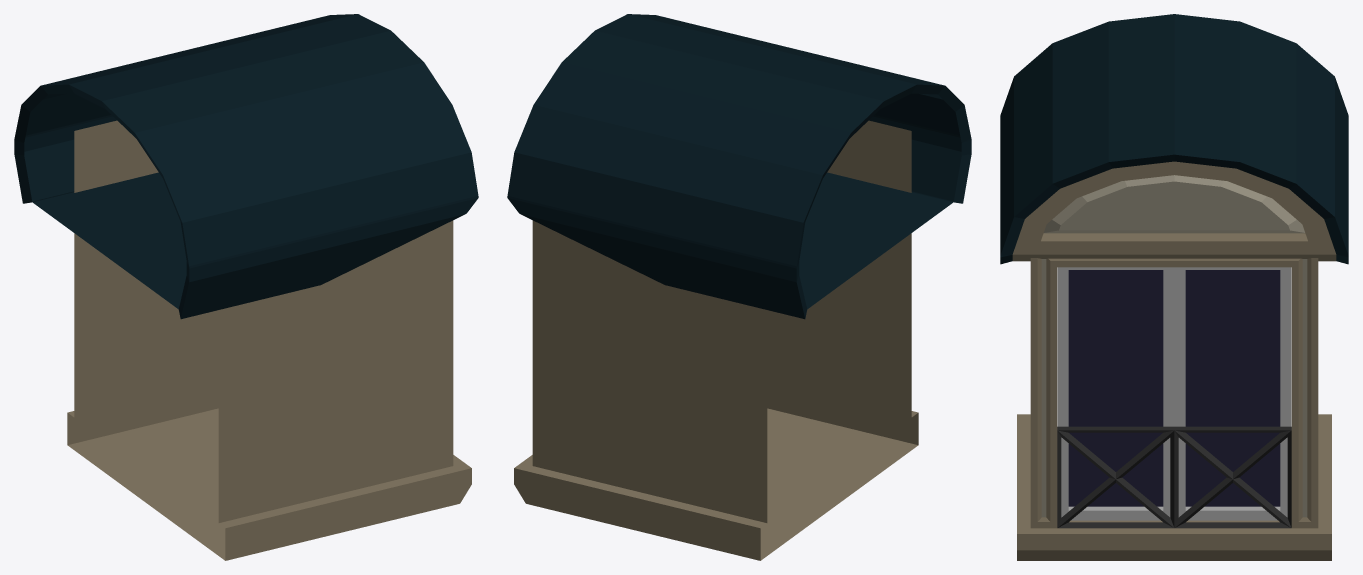
The model's file is Window_3.fbx.
3 views of the same model, side by side, from view 1: azimuth 30°, elevation 25°; view 2: azimuth 150°, elevation 25°; view 3: azimuth 270°, elevation 25° (orthographic).
Visible parts, largest first — view 1: Window_3; view 2: Window_3; view 3: Window_3.
Boxes of the visible parts, x1,y1,x2,y2 form: Window_3: [14, 14, 478, 560]; Window_3: [507, 14, 971, 560]; Window_3: [1000, 14, 1348, 560].
Size of the model in its own units: 74.41 by 101 by 77.49.
